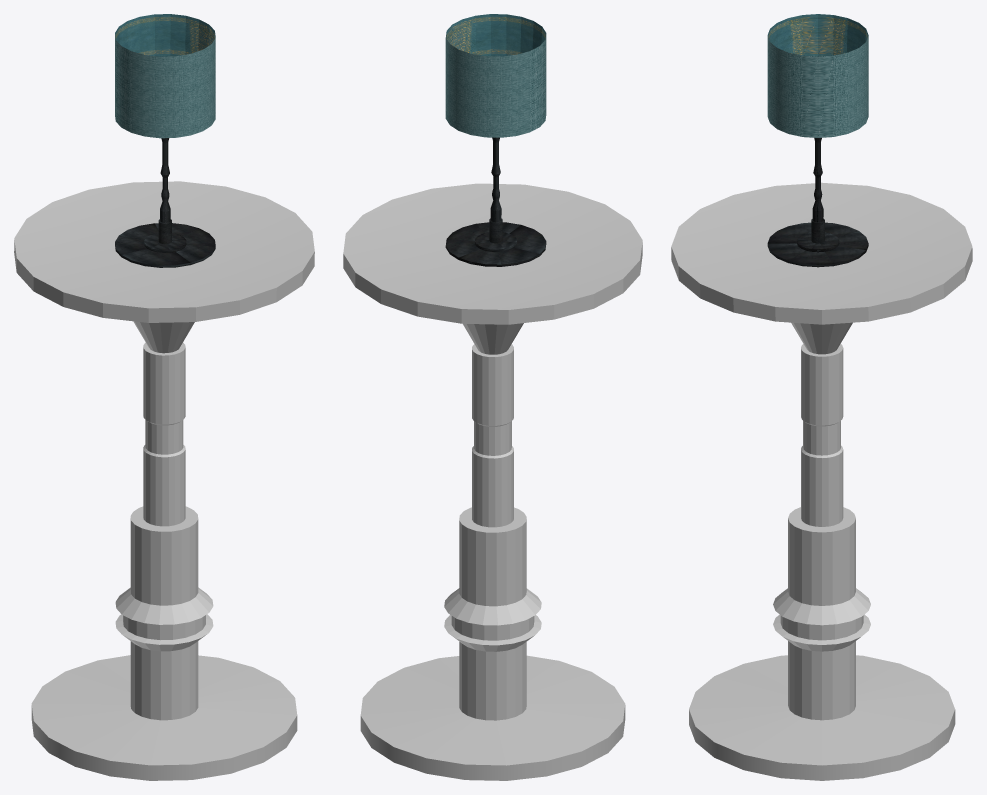
File: Guest tabel Next to bed.fbx
3 views of the same model, side by side, from view 1: azimuth 30°, elevation 25°; view 2: azimuth 150°, elevation 25°; view 3: azimuth 270°, elevation 25° (orthographic).
Parts seen in each view (by area): view 1: pCylinder234, polySurface1320, polySurface1321; view 2: pCylinder234, polySurface1320, polySurface1321; view 3: pCylinder234, polySurface1320, polySurface1321.
Part boxes in pixels (left/top/right/bottom): pCylinder234: left=14, top=181, right=314, bottom=780; polySurface1320: left=115, top=14, right=215, bottom=138; polySurface1321: left=115, top=138, right=215, bottom=267; pCylinder234: left=343, top=183, right=642, bottom=780; polySurface1320: left=445, top=14, right=546, bottom=137; polySurface1321: left=445, top=137, right=546, bottom=266; pCylinder234: left=671, top=182, right=972, bottom=780; polySurface1320: left=767, top=14, right=868, bottom=137; polySurface1321: left=767, top=138, right=868, bottom=267.
Size of the model in its own units: 96.8 by 245 by 96.84.
